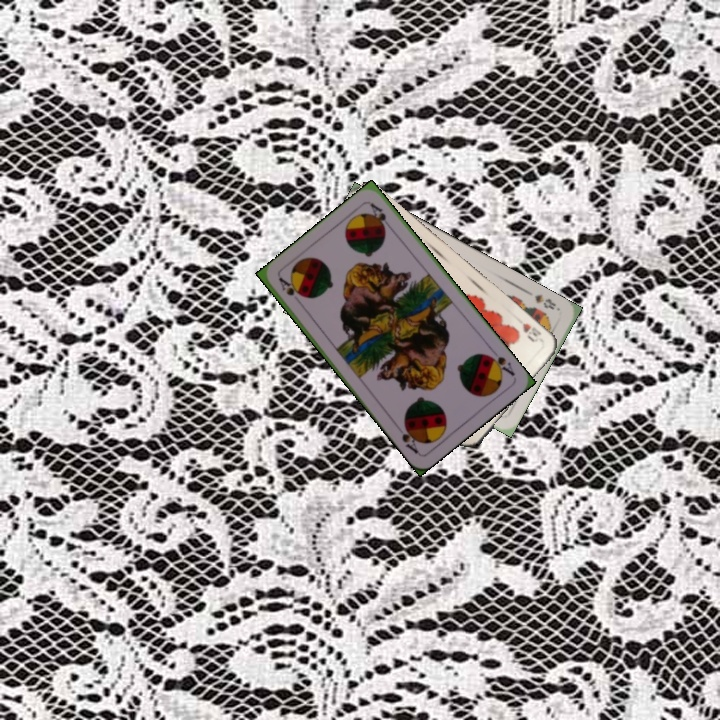H10: (518, 319, 545, 347)
S8: (531, 290, 559, 312)
SA: (482, 350, 518, 379), (275, 273, 304, 299)
